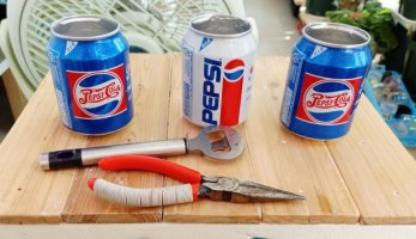Can: (280, 24, 376, 146), (49, 15, 137, 135), (182, 16, 258, 131)
